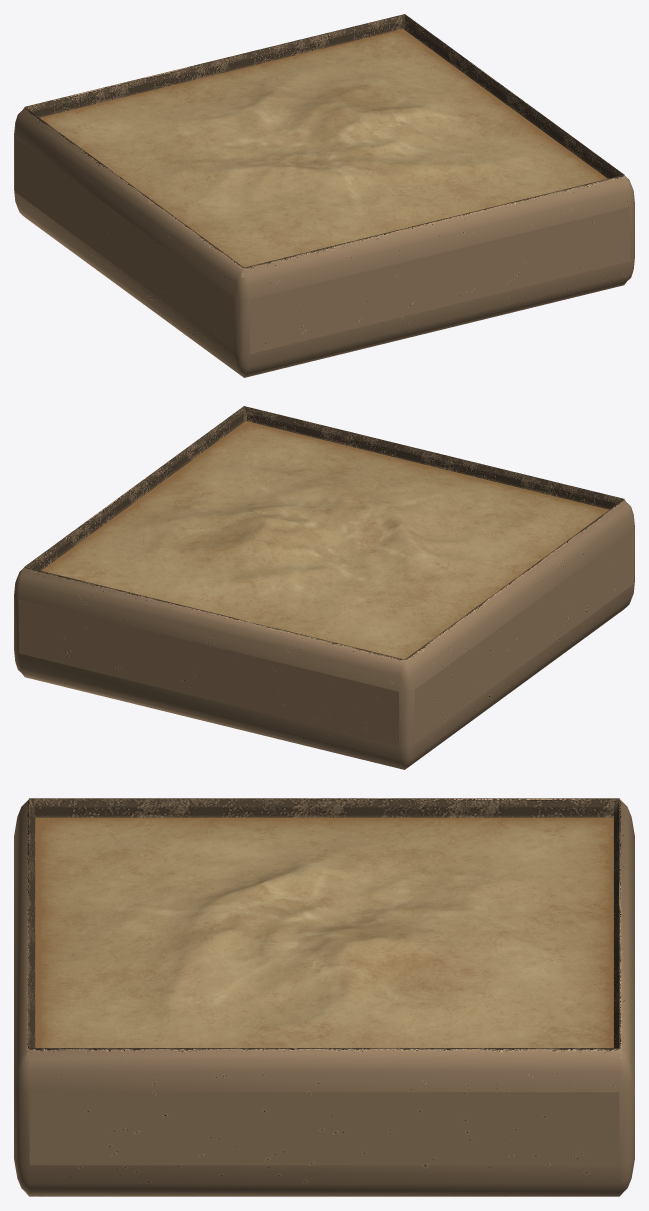
The model's file is Террейн4.fbx.
3 views of the same model, one above another, from view 1: azimuth 30°, elevation 25°; view 2: azimuth 150°, elevation 25°; view 3: azimuth 270°, elevation 25° (orthographic). The views are drawn at different scales.
Visible parts, largest first — view 1: Cube, Landscape_1; view 2: Cube, Landscape_1; view 3: Landscape_1, Cube.
Part boxes in pixels (bbox=[...]): Cube: bbox=[14, 14, 634, 377]; Landscape_1: bbox=[40, 29, 607, 267]; Cube: bbox=[14, 406, 634, 769]; Landscape_1: bbox=[41, 421, 608, 659]; Landscape_1: bbox=[35, 817, 613, 1047]; Cube: bbox=[14, 798, 634, 1196].
Bounding box in the file's own units: 814 × 232 × 814.
